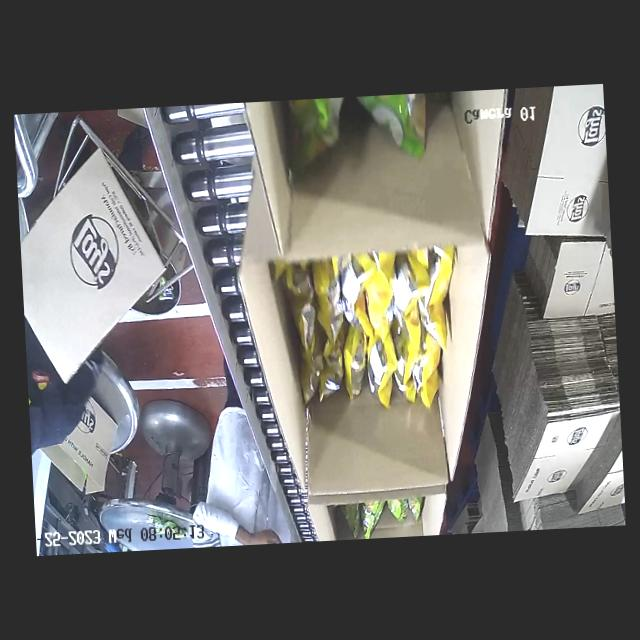salted: (270, 246, 464, 418)
yogurt: (270, 92, 440, 192), (336, 496, 449, 540)
